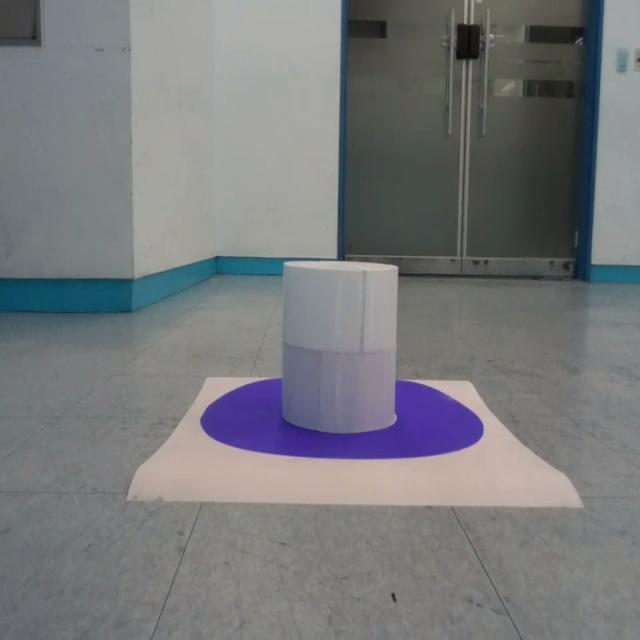cylinder: (281, 260, 400, 434)
